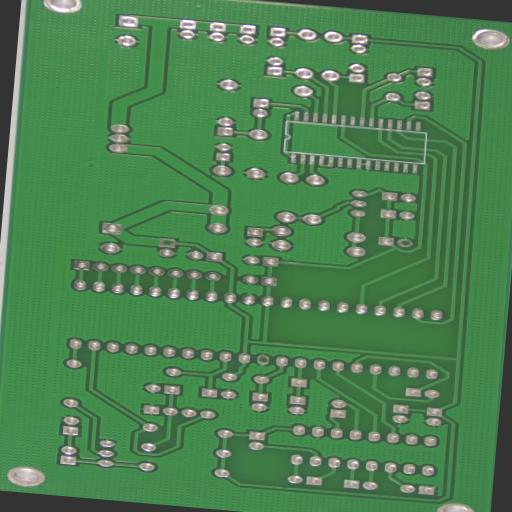missing_hole: (396, 238, 414, 247), (257, 354, 270, 364), (161, 238, 176, 246)
